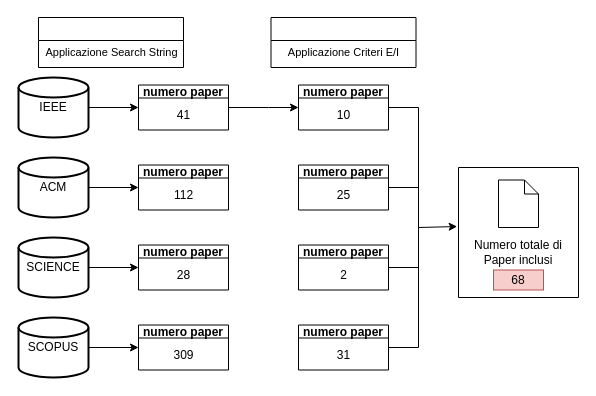
Some shapes in this 596 by 396 pixel diagram are drawn without their labels. Each missing label, with the box of its shape:
FASE 1: (38, 16, 184, 68)
FASE 2: (270, 16, 416, 68)
